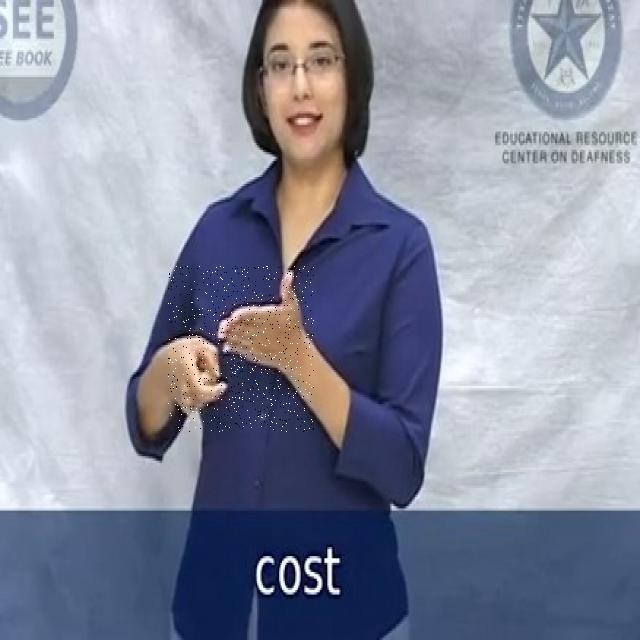cost: (168, 266, 314, 432)
